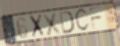6: (16, 17, 30, 40)
C: (74, 7, 91, 34)
D: (59, 10, 75, 35)
F: (88, 5, 104, 31)
X: (42, 11, 63, 37), (28, 13, 47, 39)
